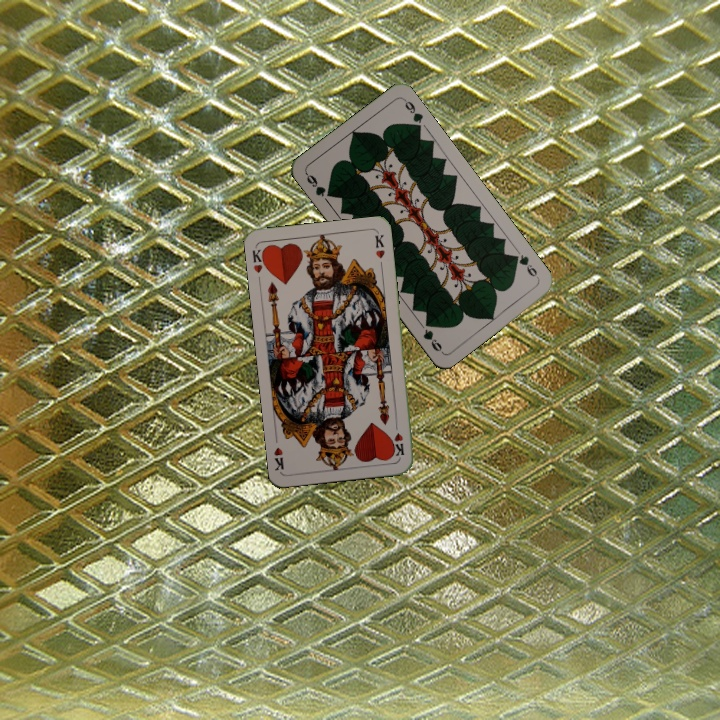G9: (302, 169, 336, 200), (508, 251, 542, 281)
HK: (390, 418, 407, 459), (248, 244, 269, 275)
